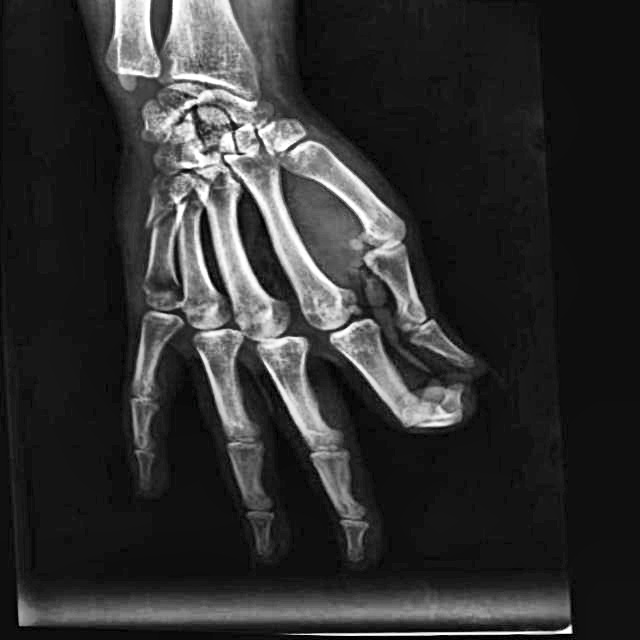Comminuted: (389, 375, 480, 451)
Oblique Displaced: (128, 174, 192, 246)
